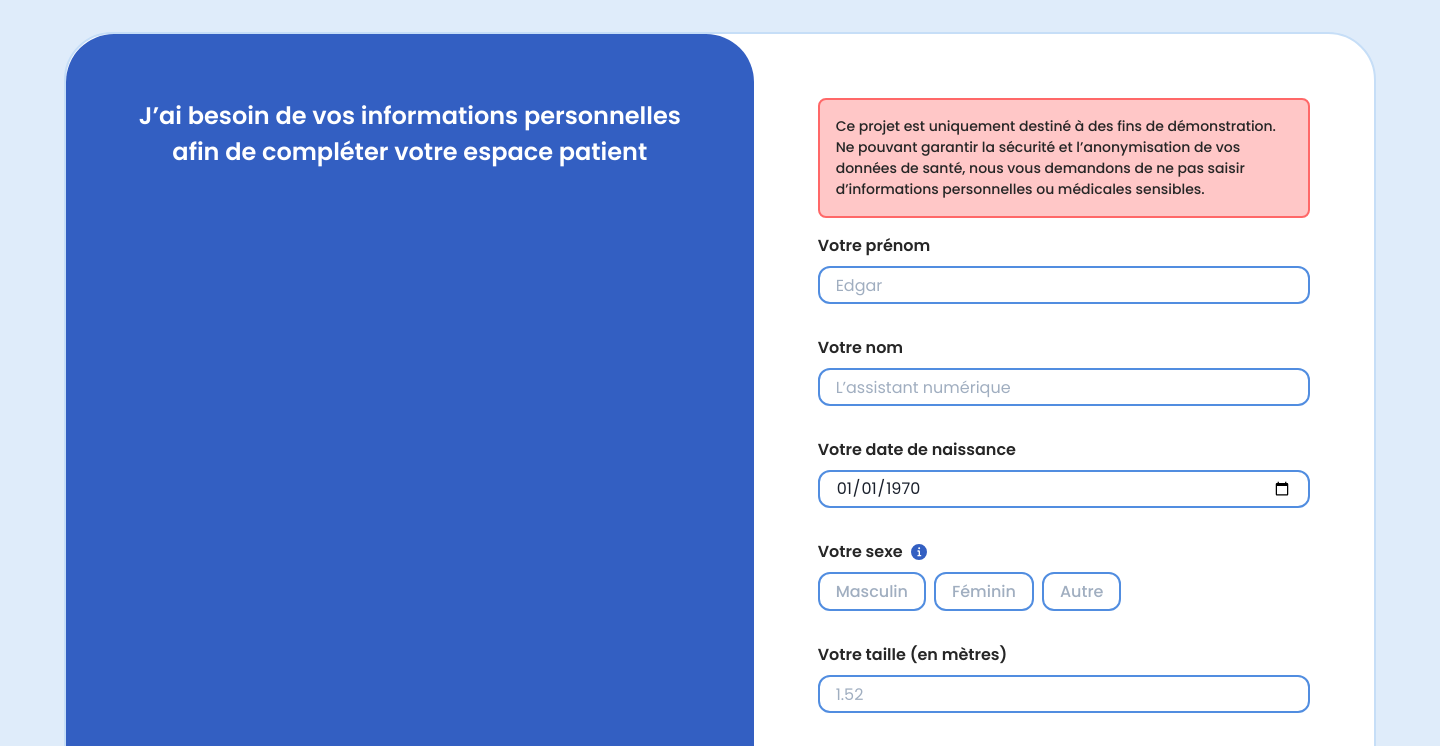
Test: Personal Info Page tests - Desktop › Working page › Error states › Bad birthdate (too old)
The image size is (1440, 746).
Type "1800-01-01" into the date field with id "edgar-onboardingPersonalPage-formBirthdate-input" at (1064, 489), box [818,470,1310,508]
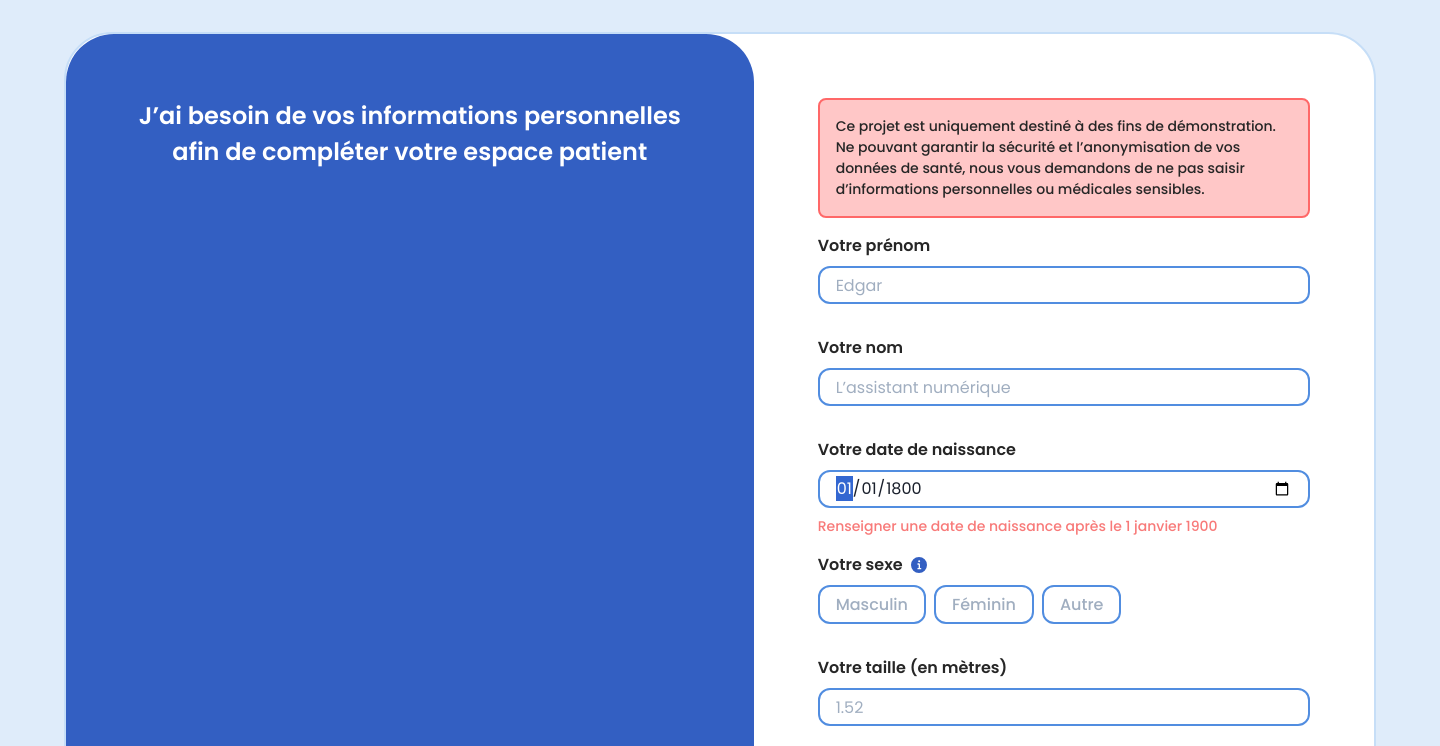
Expected: the text "Renseigner une date de naissance après le 1 janvier 1900" is shown, [818,516,1217,537]
Expected: the text with id "edgar-onboardingPersonalPage-formBirthdateErrorMin-text" reads "Renseigner une date de naissance après le 1 janvier 1900", [818,516,1218,537]
